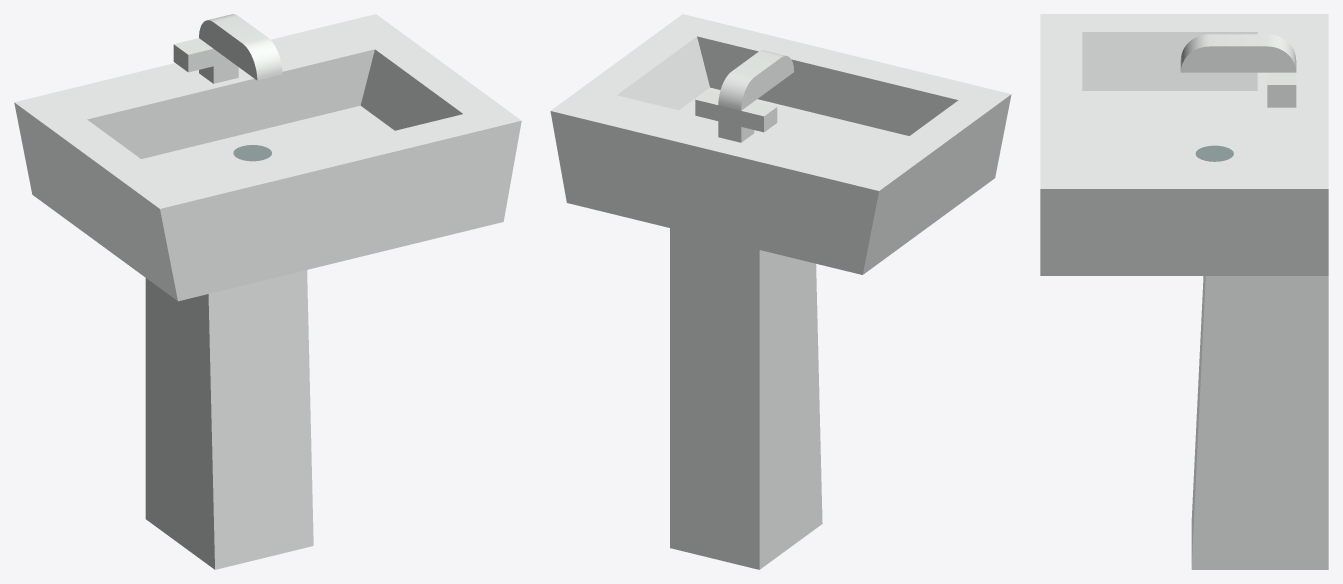
Rendered from bathroomSinkSquare.glb.
The picture shows the model from 3 angles, left to right: view 1: azimuth 30°, elevation 25°; view 2: azimuth 150°, elevation 25°; view 3: azimuth 270°, elevation 25°; orthographic projection. The views are drawn at different scales.
Parts seen in each view (by area): view 1: bathroomSinkSquare(Clone); view 2: bathroomSinkSquare(Clone); view 3: bathroomSinkSquare(Clone).
Part boxes in pixels (<box>): bathroomSinkSquare(Clone): <box>14,14,521,569</box>; bathroomSinkSquare(Clone): <box>550,14,1011,569</box>; bathroomSinkSquare(Clone): <box>1040,14,1328,569</box>.
Bounding box in the file's own units: 0.8729 × 1.18 × 0.609.
3 materials, 3 textured.
